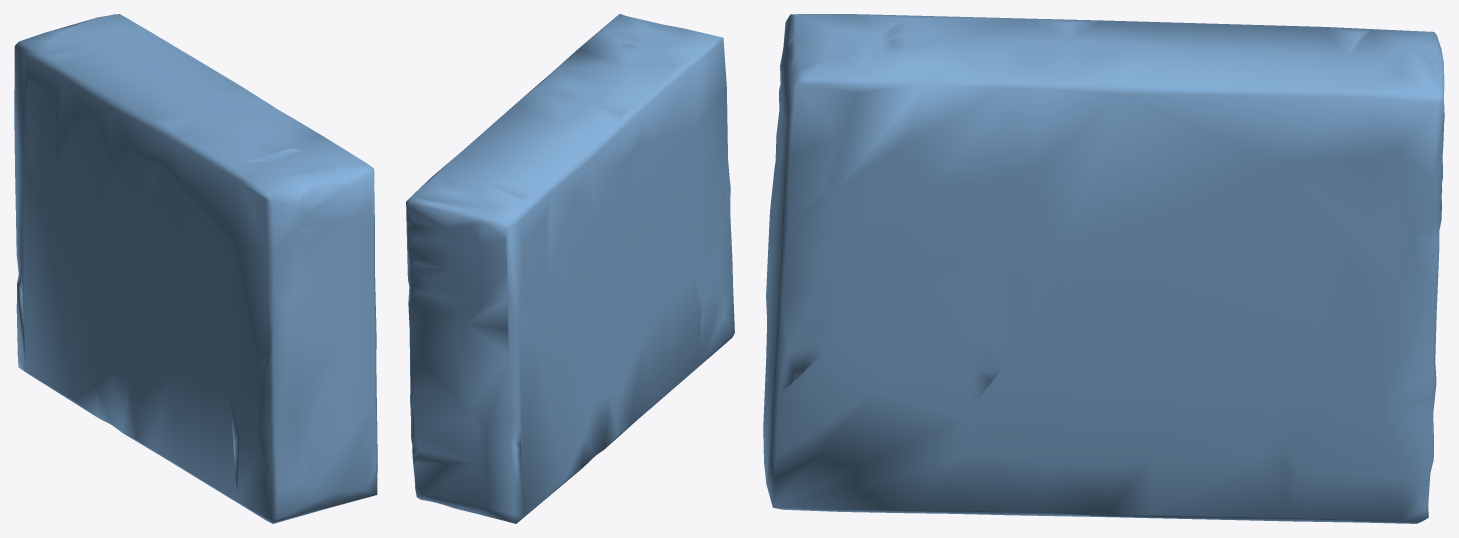
Rendered from rectangularCube2_4.dae.
The picture shows the model from 3 angles, left to right: view 1: azimuth 30°, elevation 25°; view 2: azimuth 150°, elevation 25°; view 3: azimuth 270°, elevation 25°; orthographic projection. The views are drawn at different scales.
Parts seen in each view (by area): view 1: BroccoliSoup_800_tex_019; view 2: BroccoliSoup_800_tex_019; view 3: BroccoliSoup_800_tex_019.
Part boxes in pixels (x1,y1,x2,y2): BroccoliSoup_800_tex_019: (14,14,377,523); BroccoliSoup_800_tex_019: (406,14,734,523); BroccoliSoup_800_tex_019: (763,14,1444,523).
Bounding box in the file's own units: 0.0168 × 0.0597 × 0.045.
